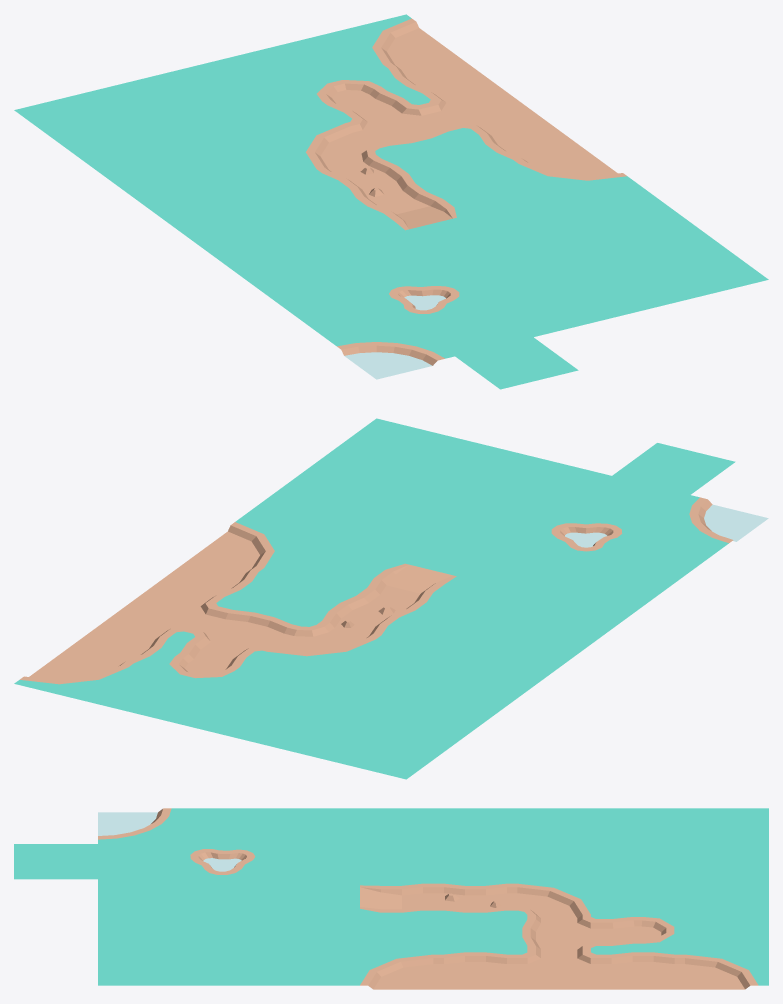
File: ground.glb
3 renders of one model, top to bottom at view 1: azimuth 30°, elevation 25°; view 2: azimuth 150°, elevation 25°; view 3: azimuth 270°, elevation 25°, orthographic. The views are drawn at different scales.
Parts seen in each view (by area): view 1: ground_riverCorner.001, ground_pathEndClosed.001, ground_pathCorner.002, ground_pathBend.001, ground_grass.019, ground_grass.004, ground_grass.007, ground_grass.011, ground_grass.012, ground_grass.015, ground_grass.005, ground_grass.010 (+29 smaller); view 2: ground_pathSplit.001, ground_pathEnd.001, ground_pathCorner.001, ground_grass.022, ground_grass.028, ground_pathRocks.001, ground_grass.002, ground_grass.004, ground_riverTile.001, ground_grass.006, ground_grass.007, ground_grass.009 (+29 smaller); view 3: ground_pathSide.002, ground_pathSide.001, ground_pathCorner.001, ground_pathCorner.002, ground_pathSideOpen.001, ground_pathBend.001, ground_grass.002, ground_grass.004, ground_grass.012, ground_grass.003, ground_pathEndClosed.001, ground_grass.022 (+29 smaller).
Part boxes in pixels (x1,y1,x2,y2): ground_riverCorner.001: (331, 323, 454, 379); ground_pathEndClosed.001: (295, 67, 417, 118); ground_pathCorner.002: (328, 14, 451, 66); ground_pathBend.001: (262, 119, 384, 171); ground_grass.019: (455, 337, 578, 389); ground_grass.004: (385, 133, 508, 185); ground_grass.007: (274, 204, 397, 256); ground_grass.011: (443, 252, 566, 303); ground_grass.012: (521, 232, 644, 284); ground_grass.015: (150, 190, 273, 242); ground_grass.005: (216, 86, 339, 137); ground_grass.010: (138, 105, 261, 157); ground_pathSplit.001: (183, 603, 306, 655); ground_pathEnd.001: (352, 556, 475, 608); ground_pathCorner.001: (195, 518, 318, 570); ground_grass.022: (410, 437, 532, 489); ground_grass.028: (250, 708, 372, 760); ground_pathRocks.001: (307, 589, 430, 641); ground_grass.002: (319, 504, 442, 555); ground_grass.004: (228, 570, 351, 622); ground_riverTile.001: (521, 509, 644, 561); ground_grass.006: (476, 542, 599, 594); ground_grass.007: (431, 575, 554, 627); ground_grass.009: (340, 642, 463, 693); ground_pathSide.002: (433, 950, 517, 989); ground_pathSide.001: (601, 950, 684, 989); ground_pathCorner.001: (349, 950, 433, 989); ground_pathCorner.002: (685, 950, 768, 989); ground_pathSideOpen.001: (517, 950, 601, 989); ground_pathBend.001: (517, 879, 601, 918); ground_grass.002: (265, 914, 349, 950); ground_grass.004: (433, 914, 517, 950); ground_grass.012: (181, 914, 265, 950); ground_grass.003: (349, 914, 433, 950); ground_pathEndClosed.001: (601, 914, 684, 950); ground_grass.022: (98, 914, 181, 950).
Bounding box in the file's own units: 5 × 0.05 × 9.
